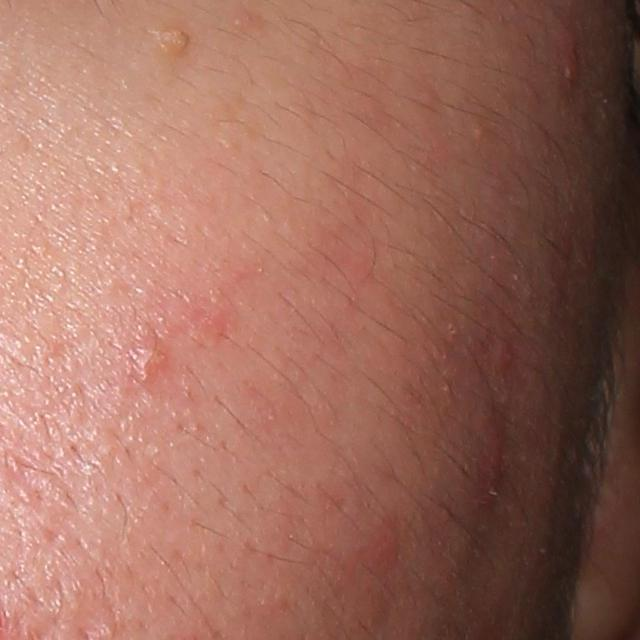other: (151, 23, 196, 63)
papule: (126, 335, 174, 398), (548, 32, 587, 103), (478, 423, 507, 498)
